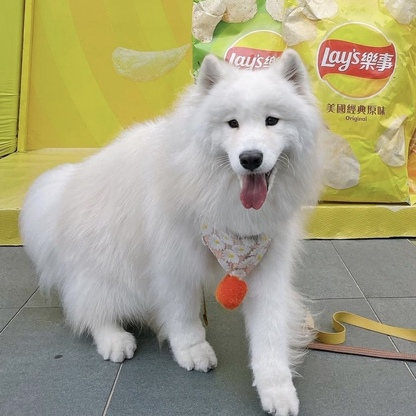samoyed: (18, 45, 331, 416)
